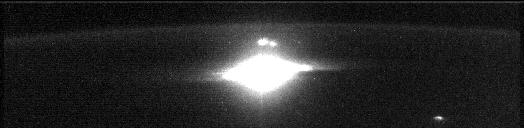negative: (257, 37, 279, 50)
